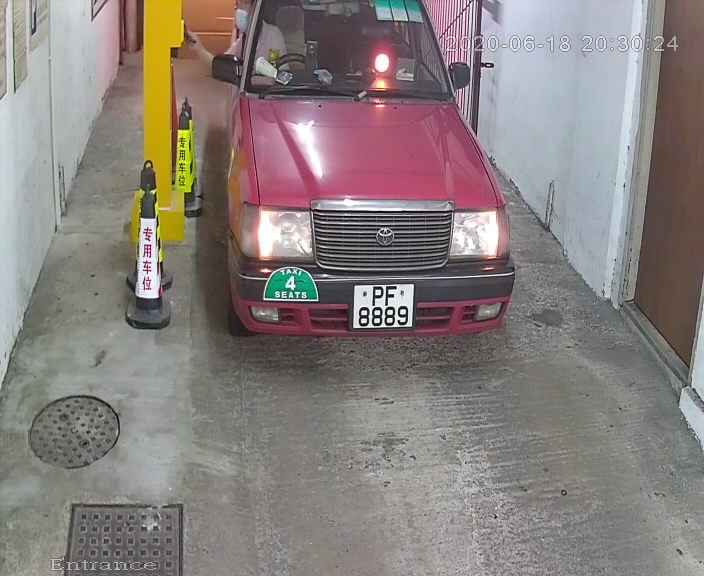taxi: (204, 2, 515, 365)
taxi_mark: (263, 260, 328, 312)
